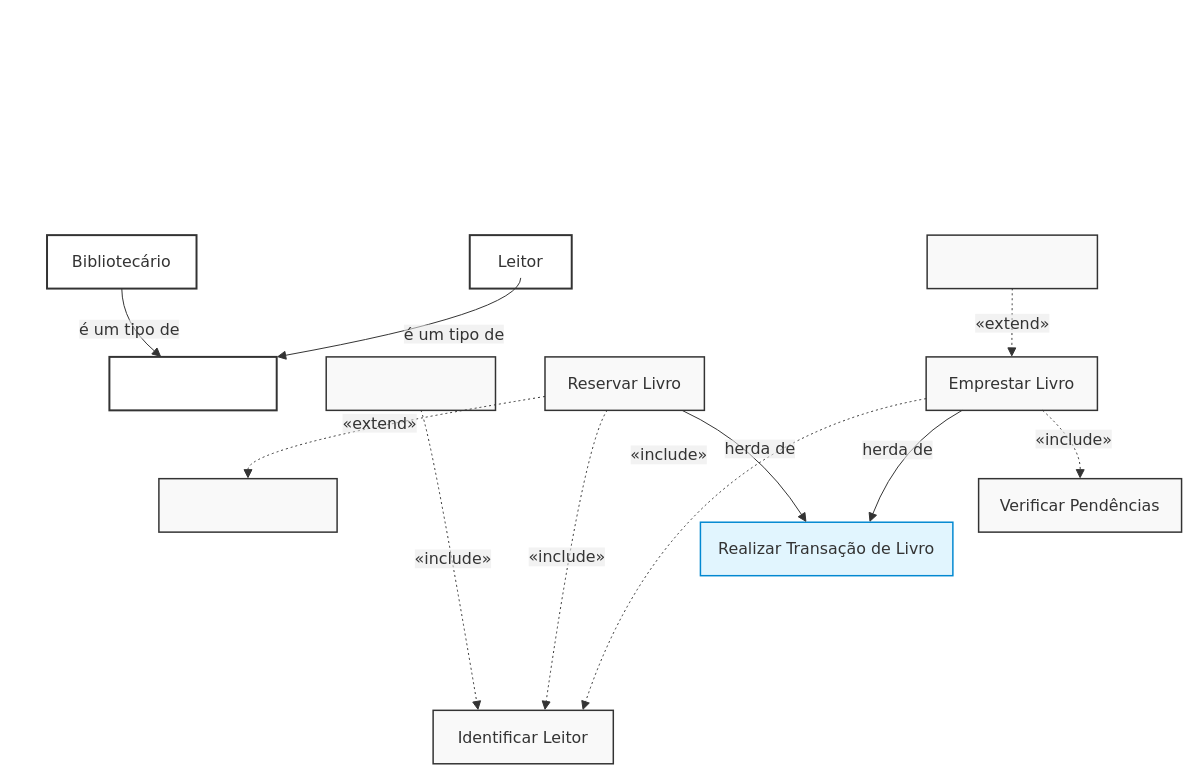
The diagram is 1199 pixels wide and 781 high, and some of its shapes have lost their labels. The shapes that lost their labels are listed below. From the top down, each one's centre as x and y in pixels, then its label:
At (x=1012, y=261): "Notificar Atraso".
At (x=192, y=383): "Usuário (Geral)".
At (x=410, y=383): "Bloquear Leitor".
At (x=247, y=504): "Consultar Acervo".
